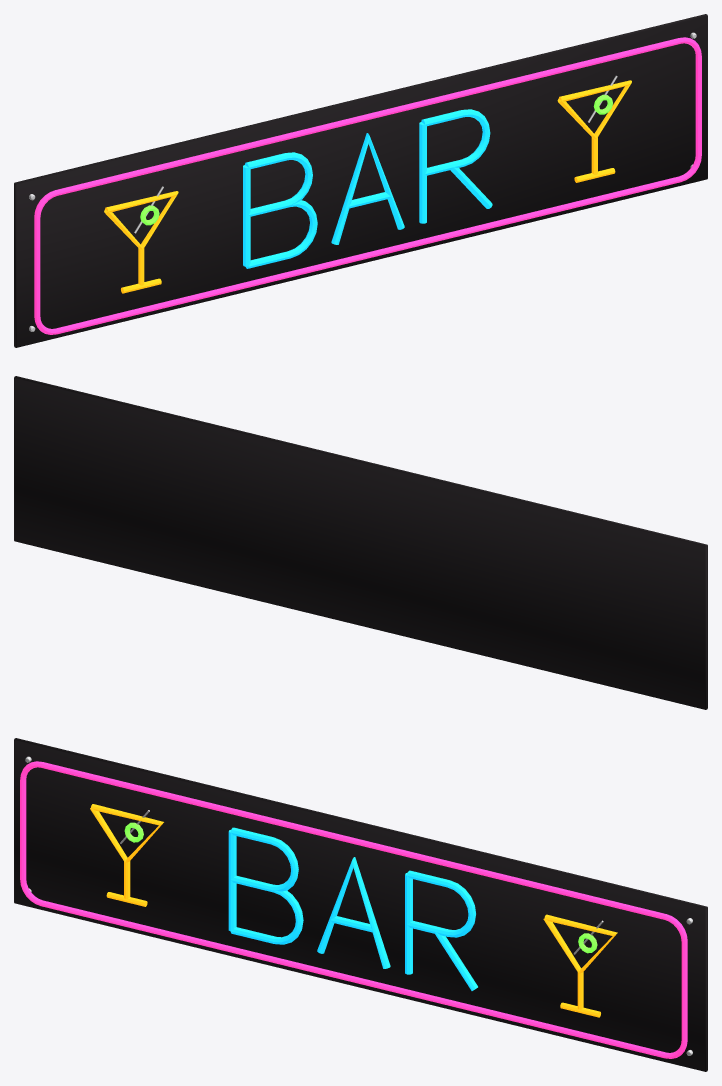
Rendered from neon_sign.glb.
The picture shows the model from 3 angles, top to bottom: view 1: azimuth 30°, elevation 25°; view 2: azimuth 150°, elevation 25°; view 3: azimuth 330°, elevation 25°; orthographic projection.
Parts seen in each view (by area): view 1: Panel, Frame, Neon cyan, Neon amber, Neon green; view 2: Panel; view 3: Panel, Frame, Neon cyan, Neon amber, Neon green.
Boxes of the visible parts, x1,y1,x2,y2 form: Panel: (14,14,707,347); Frame: (34,37,701,334); Neon cyan: (243,109,492,268); Neon amber: (104,80,631,293); Neon green: (140,94,612,225); Panel: (14,376,707,709); Panel: (14,738,707,1071); Frame: (20,761,687,1058); Neon cyan: (228,827,477,990); Neon amber: (90,804,617,1017); Neon green: (124,822,597,953).
Bounding box in the file's own units: 2.2 × 0.5 × 0.0567.
